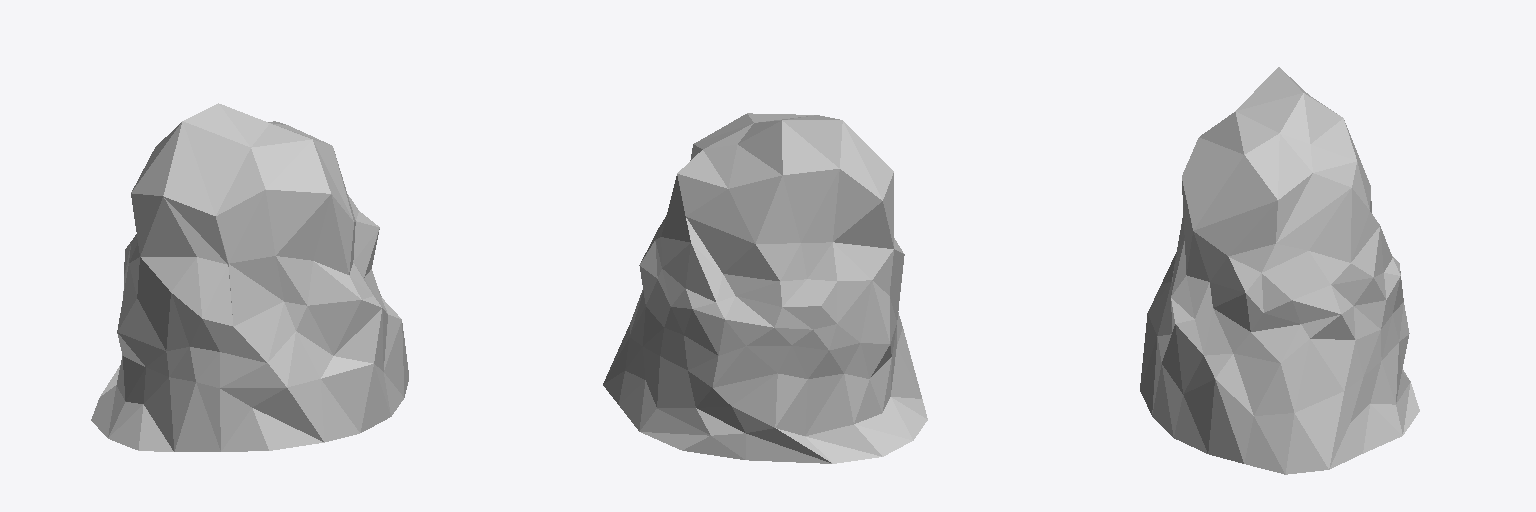
The model's file is higPollyRock.obj.
3 renders of one model, left to right at view 1: azimuth 30°, elevation 25°; view 2: azimuth 150°, elevation 25°; view 3: azimuth 270°, elevation 25°, orthographic.
Parts seen in each view (by area): view 1: Icosphere.001; view 2: Icosphere.001; view 3: Icosphere.001.
Part boxes in pixels (left/top/right/bottom): Icosphere.001: left=91, top=103, right=408, bottom=451; Icosphere.001: left=603, top=113, right=927, bottom=463; Icosphere.001: left=1140, top=67, right=1419, bottom=474.
Size of the model in its own units: 21.05 by 21.03 by 17.4.